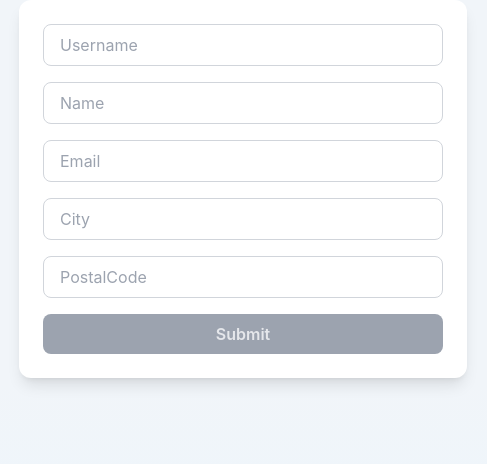
Scenario: RegistrationForm - Tests Complets › API Integration (200/400/500) › POST 201 - succès
The image size is (487, 464).
Type "Jean Dupont" into the field with placeholder "Name".
click(243, 103); type("Jean Dupont")  # box left=43, top=82, right=443, bottom=124
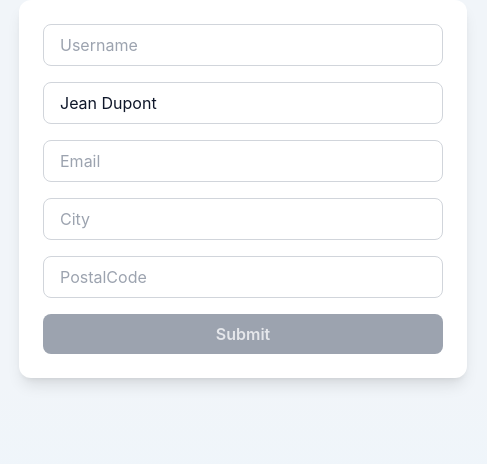
Type "jdupont2" into the field with placeholder "Username".
click(243, 45); type("jdupont2")  # box left=43, top=24, right=443, bottom=66
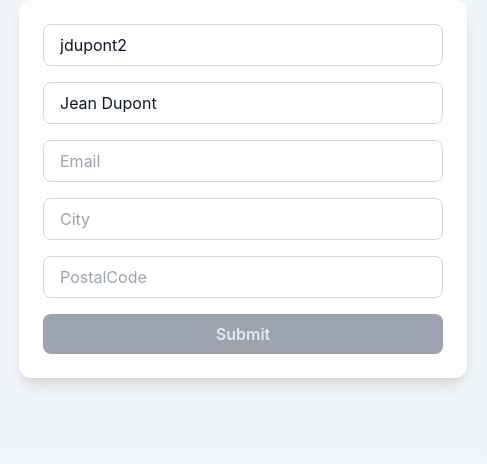
Type "jean@test.com" into the field with placeholder "Email".
click(243, 161); type("jean@test.com")  # box left=43, top=140, right=443, bottom=182
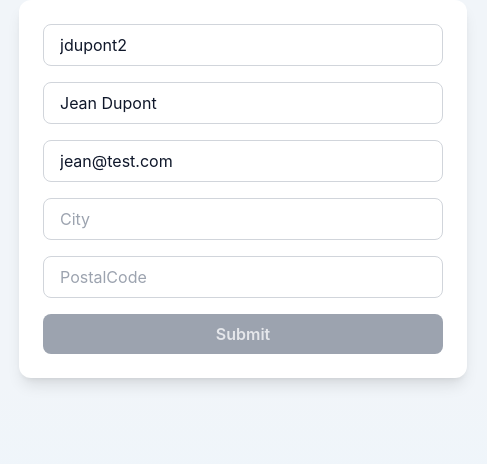
Type "Paris" into the field with placeholder "City".
click(243, 219); type("Paris")  # box left=43, top=198, right=443, bottom=240
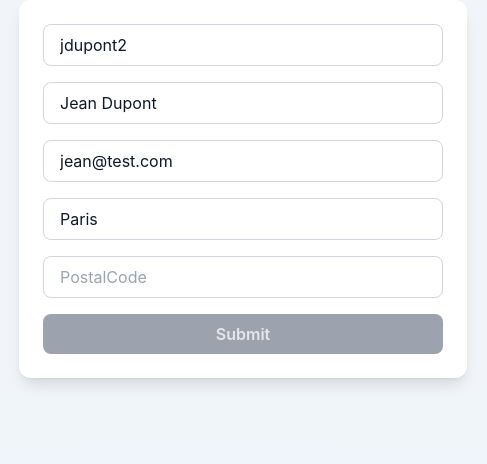
Type "75001" into the field with placeholder "PostalCode".
click(243, 277); type("75001")  # box left=43, top=256, right=443, bottom=298
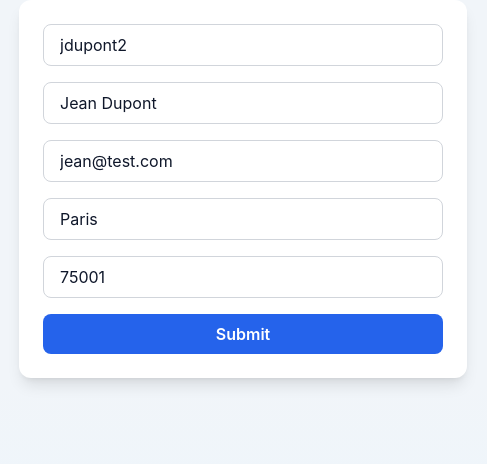
Now the button "Submit" is enabled
Click the button "Submit".
click(243, 334)  # box left=43, top=314, right=443, bottom=354
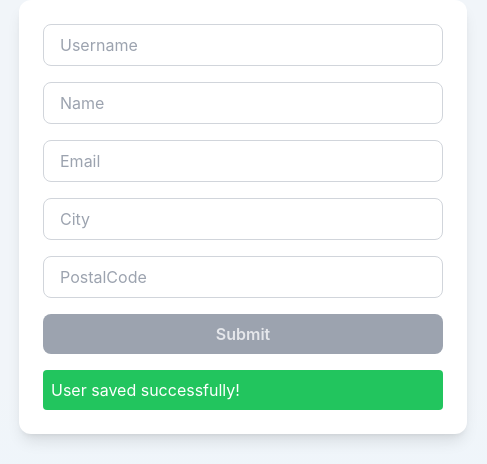
Now the text "User saved successfully!" is shown, box left=51, top=380, right=240, bottom=400
